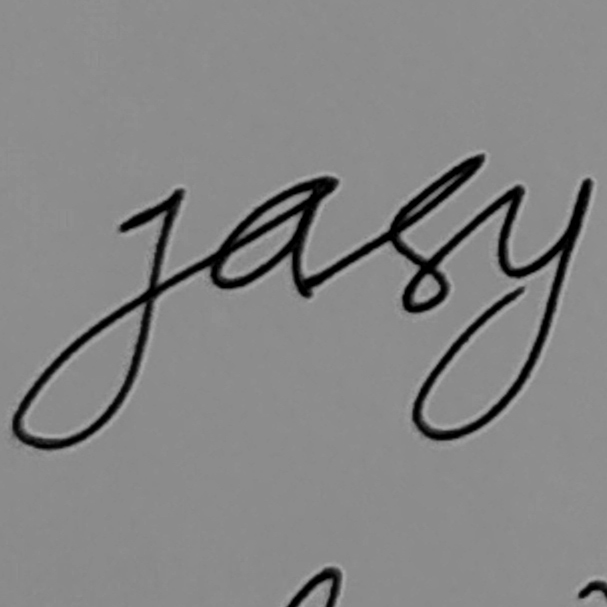a: (203, 171, 346, 305)
j: (5, 183, 187, 456)
s: (387, 151, 489, 316)
y: (408, 171, 596, 445)
